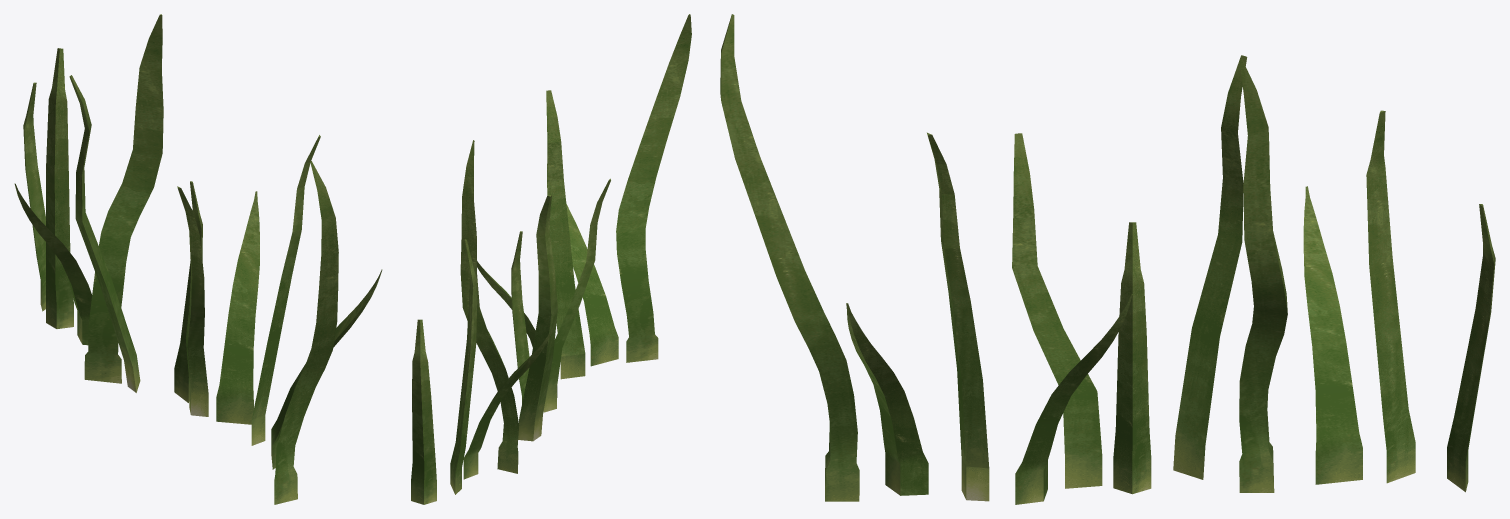
Rendered from Seaweed_01.fbx.
The picture shows the model from 3 angles, left to right: view 1: azimuth 30°, elevation 25°; view 2: azimuth 150°, elevation 25°; view 3: azimuth 270°, elevation 25°; orthographic projection. The views are drawn at different scales.
Visible parts, largest first — view 1: pCube8, plant (×2), pCube3, pCube13, pCube16, pCube12, pCube14, pCube10, pCube9, pCube5; view 2: pCube3, plant (×2), pCube16, pCube8, pCube14, pCube5, pCube13, pCube12, pCube10, pCube9; view 3: pCube3, pCube8, plant (×2), pCube16, pCube12, pCube10, pCube13, pCube9, pCube5, pCube14.
Part boxes in pixels (<box>): pCube8: <box>84,14,163,383</box>; plant (×2): <box>216,135,320,445</box>; pCube3: <box>274,161,338,504</box>; pCube13: <box>46,48,73,328</box>; pCube16: <box>69,75,140,392</box>; pCube12: <box>177,186,208,416</box>; pCube14: <box>23,82,45,311</box>; pCube10: <box>14,183,91,345</box>; pCube9: <box>174,181,202,402</box>; pCube5: <box>271,269,382,469</box>; pCube3: <box>616,14,691,362</box>; plant (×2): <box>477,90,585,397</box>; pCube16: <box>518,195,557,441</box>; pCube8: <box>460,140,519,473</box>; pCube14: <box>411,319,436,504</box>; pCube5: <box>566,204,618,366</box>; pCube13: <box>450,239,477,494</box>; pCube12: <box>543,178,610,412</box>; pCube10: <box>463,320,556,479</box>; pCube9: <box>511,231,529,403</box>; pCube3: <box>720,14,859,501</box>; pCube8: <box>1239,59,1287,492</box>; plant (×2): <box>927,132,1132,504</box>; pCube16: <box>1173,55,1247,479</box>; pCube12: <box>1012,133,1102,488</box>; pCube10: <box>1303,186,1362,484</box>; pCube13: <box>1366,110,1415,483</box>; pCube9: <box>1113,222,1151,494</box>; pCube5: <box>846,303,928,495</box>; pCube14: <box>1447,204,1495,492</box>.
Size of the model in its own units: 93.67 by 176 by 262.
